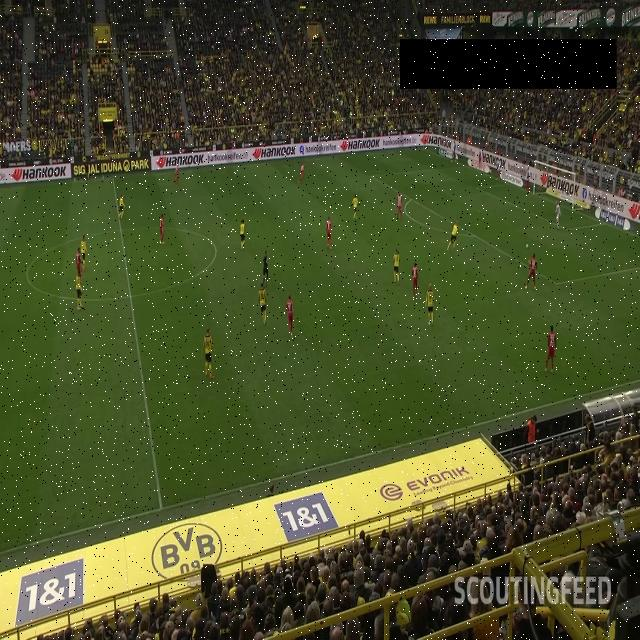Ball: (526, 244, 529, 248)
GoalKeeper: (554, 200, 561, 230)
Referee: (262, 250, 269, 286), (84, 158, 91, 180)
TEAM 1: (545, 324, 557, 374), (525, 253, 538, 291), (286, 296, 295, 339), (411, 262, 419, 297), (159, 213, 166, 244), (326, 217, 332, 250), (76, 248, 82, 281), (396, 192, 403, 219), (299, 162, 305, 185), (174, 163, 180, 185)
TEAM 2: (203, 328, 215, 379), (425, 283, 435, 326), (258, 282, 267, 327), (76, 270, 84, 311), (448, 220, 458, 252), (81, 234, 88, 272), (393, 249, 400, 284), (239, 220, 246, 249), (118, 192, 125, 220), (351, 194, 358, 218)
